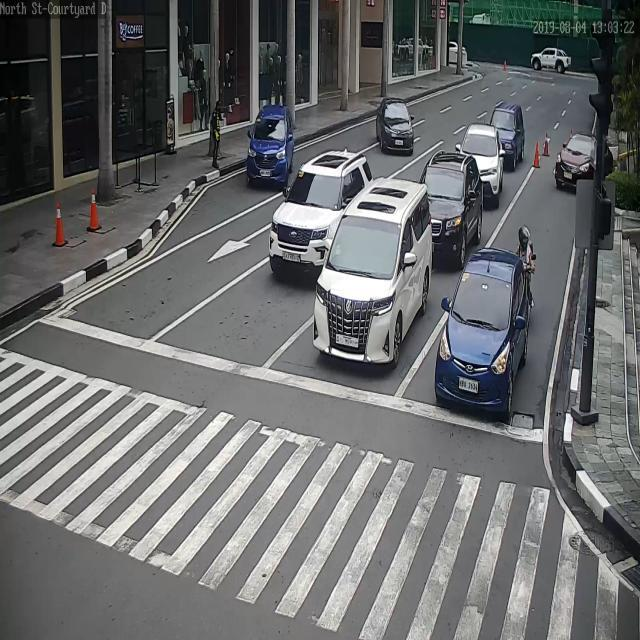car: (313, 180, 435, 369), (437, 251, 535, 414), (267, 148, 377, 288), (420, 151, 483, 271), (246, 102, 295, 186), (457, 125, 506, 208), (554, 133, 601, 192), (489, 102, 526, 169), (377, 98, 413, 155), (531, 47, 571, 72)
jeepney: (516, 223, 536, 326)
